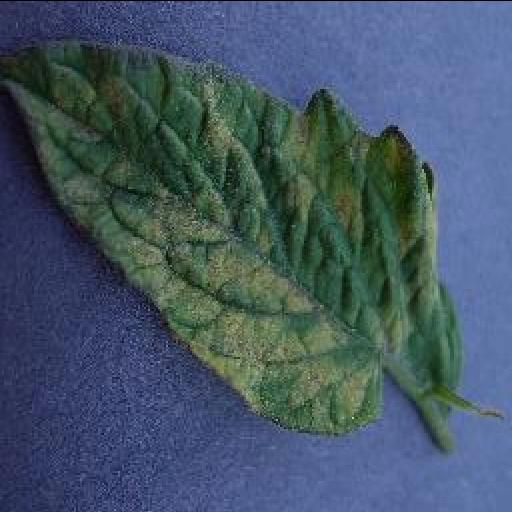disease_tomato: (0, 40, 456, 436)
